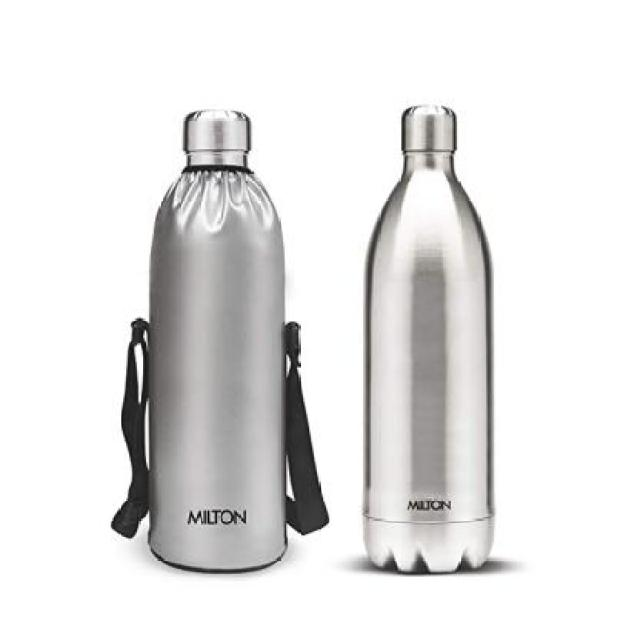Drinking: (130, 93, 304, 589), (353, 87, 502, 584)
